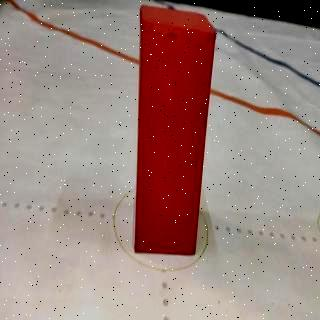redbox: (132, 5, 216, 254)
